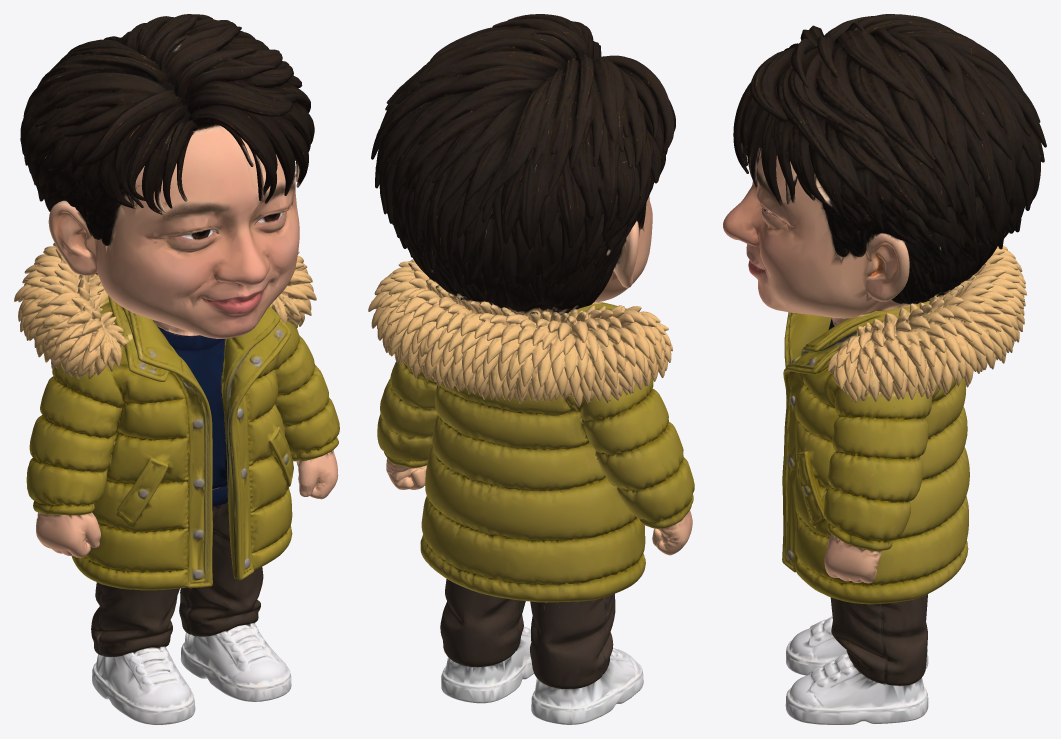
The model's file is family_dad.glb.
3 renders of one model, left to right at view 1: azimuth 30°, elevation 25°; view 2: azimuth 150°, elevation 25°; view 3: azimuth 270°, elevation 25°, orthographic.
Bounding box in the file's own units: 0.9192 × 1.9 × 0.8479.
1 material, 1 textured.
